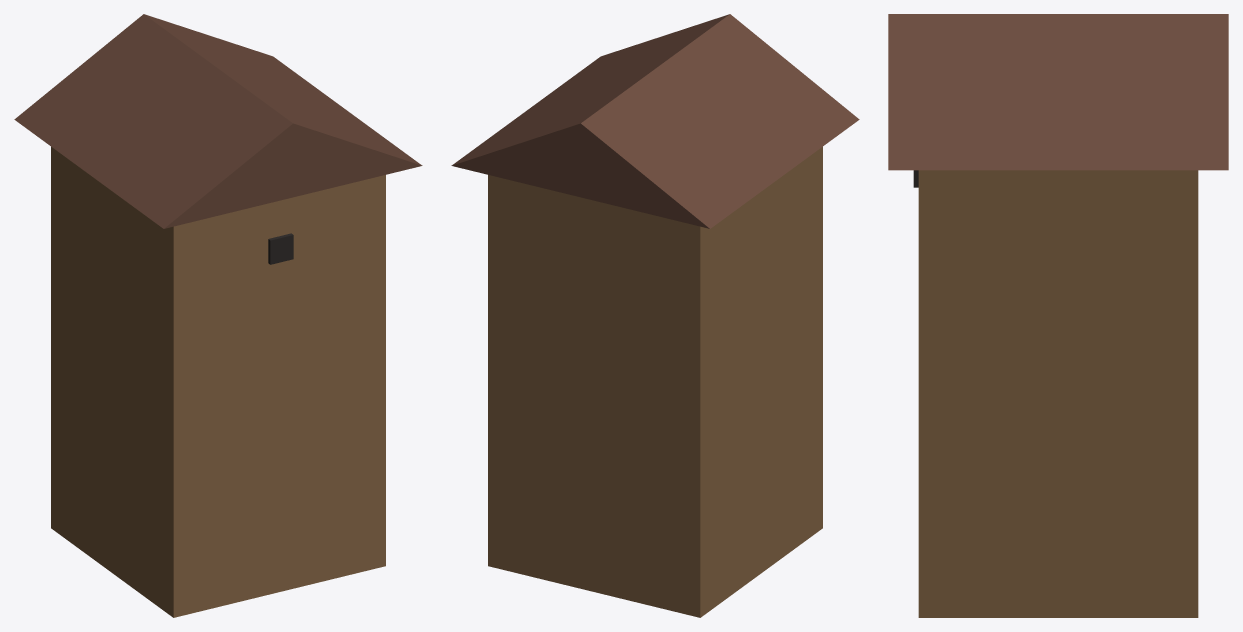
Rendered from outhouse.glb.
3 views of the same model, side by side, from view 1: azimuth 30°, elevation 25°; view 2: azimuth 150°, elevation 25°; view 3: azimuth 270°, elevation 25° (orthographic). The views are drawn at different scales.
Visible parts, largest first — view 1: outhouse; view 2: outhouse; view 3: outhouse.
Part boxes in pixels (x1,y1,x2,y2): outhouse: (14,14,422,617); outhouse: (451,14,859,617); outhouse: (888,14,1228,617).
Size of the model in its own units: 1.34 by 2.37 by 1.34.
